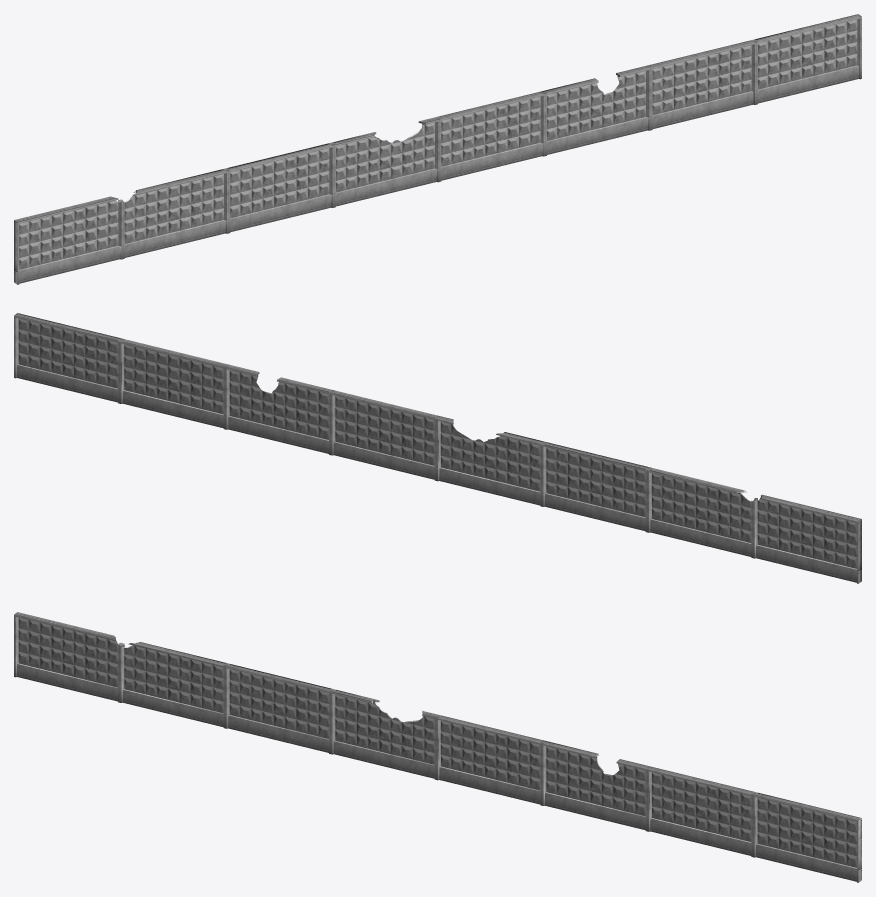
File: FenceConcrete1_8.FBX
3 renders of one model, top to bottom at view 1: azimuth 30°, elevation 25°; view 2: azimuth 150°, elevation 25°; view 3: azimuth 330°, elevation 25°, orthographic.
Visible parts, largest first — view 1: FenceConcrete1; view 2: FenceConcrete1; view 3: FenceConcrete1.
Part boxes in pixels (x1,y1,x2,y2): FenceConcrete1: [14, 14, 861, 284]; FenceConcrete1: [14, 313, 861, 583]; FenceConcrete1: [14, 612, 861, 882].
Bounding box in the file's own units: 1260 × 88.82 × 9.23.
